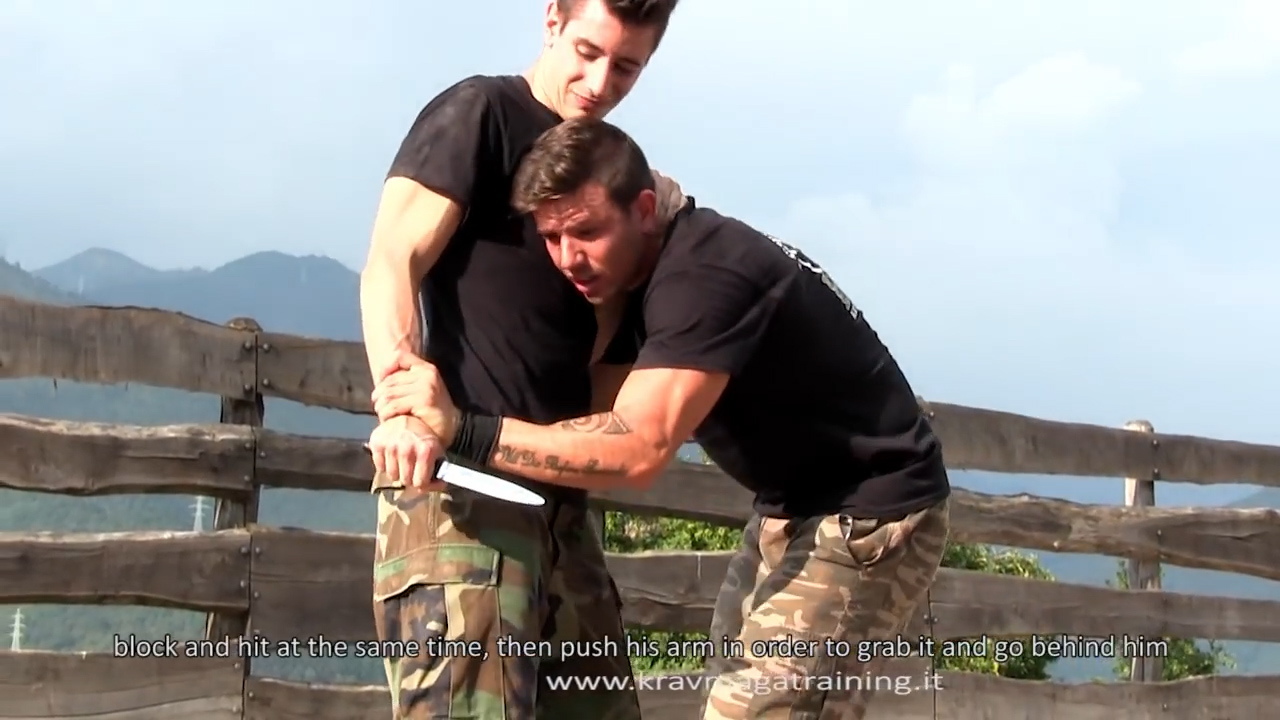knife: (354, 423, 553, 518)
